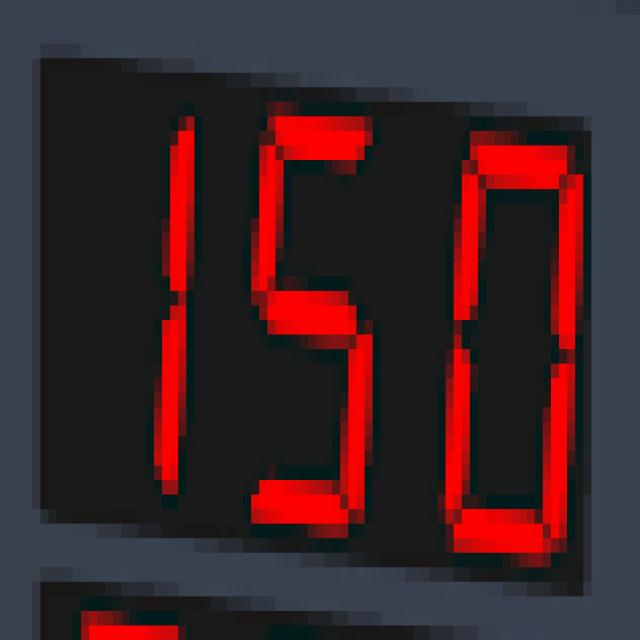0: (429, 97, 598, 598)
1: (127, 67, 241, 506)
5: (256, 74, 395, 560)
screen: (39, 58, 597, 592)
